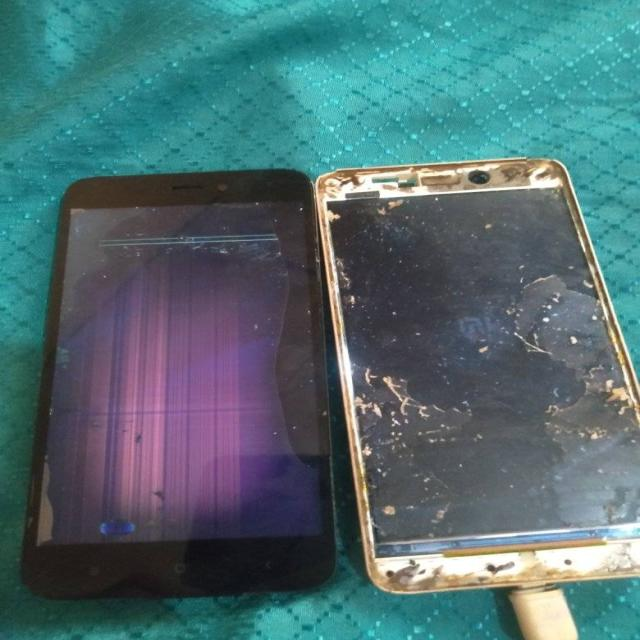Crack: (320, 164, 640, 591)
